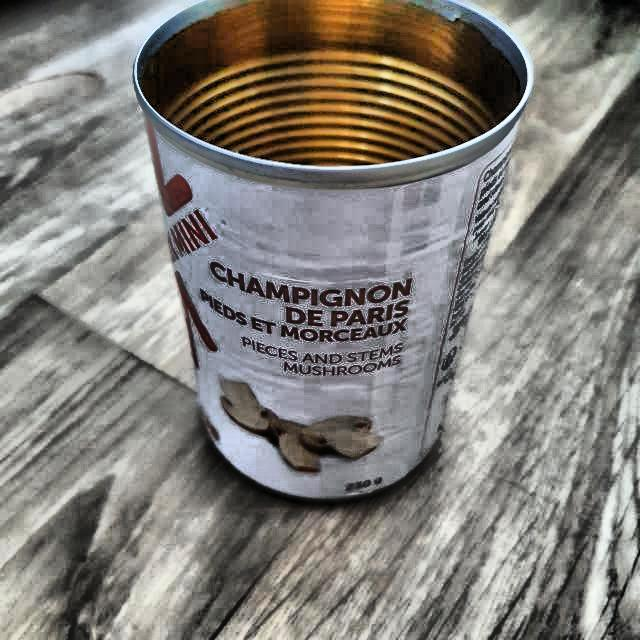metal: (132, 0, 534, 506)
